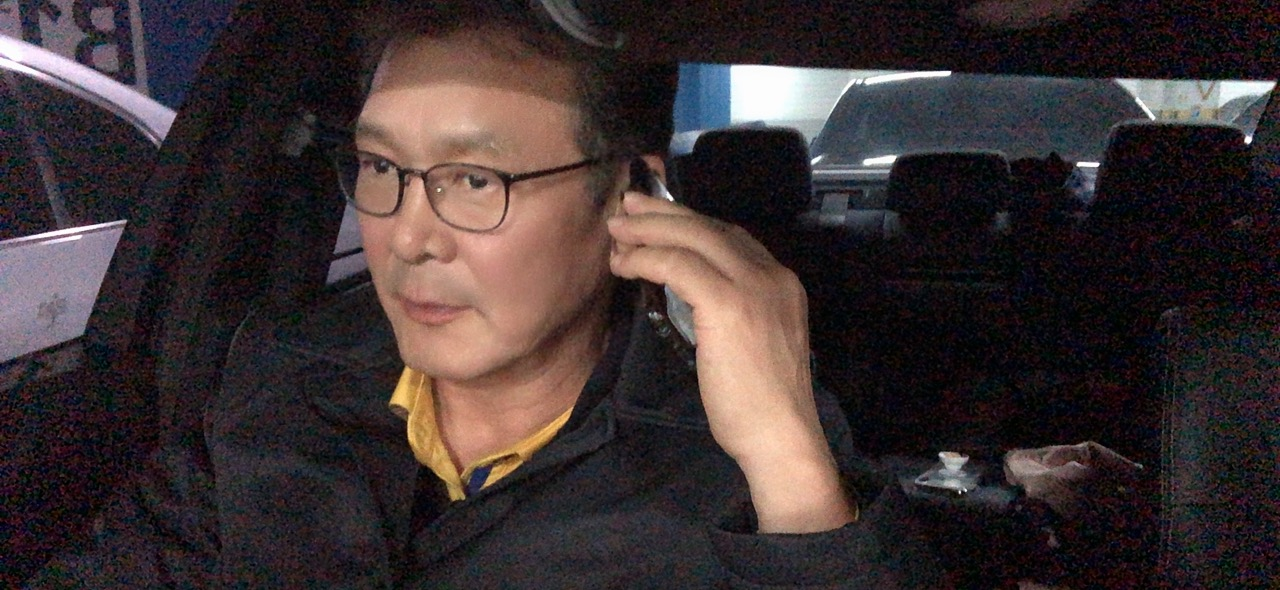phone: (127, 5, 874, 590)
